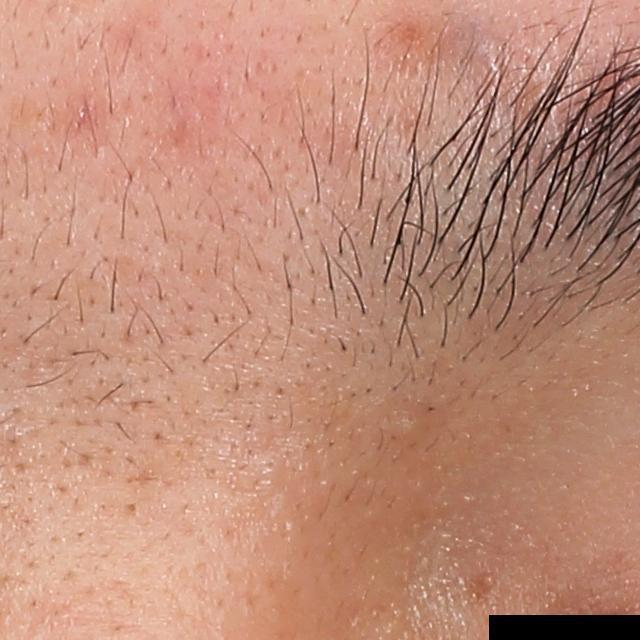comedo: (392, 411, 422, 439)
